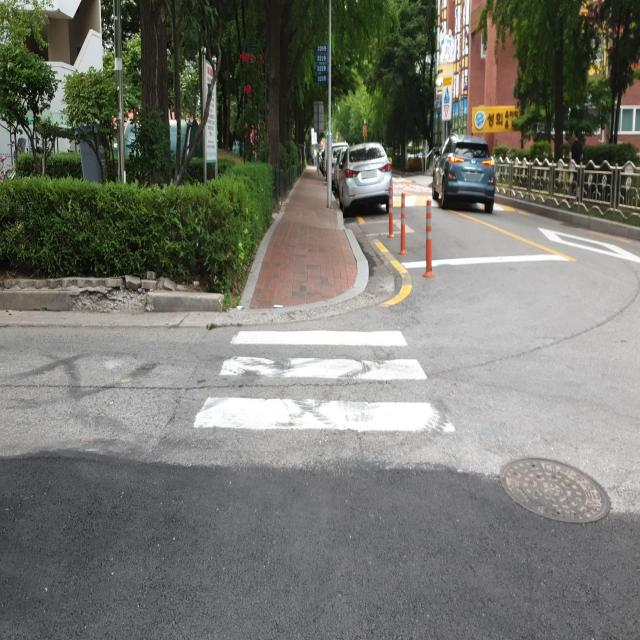횡단보도: (192, 328, 460, 436)
